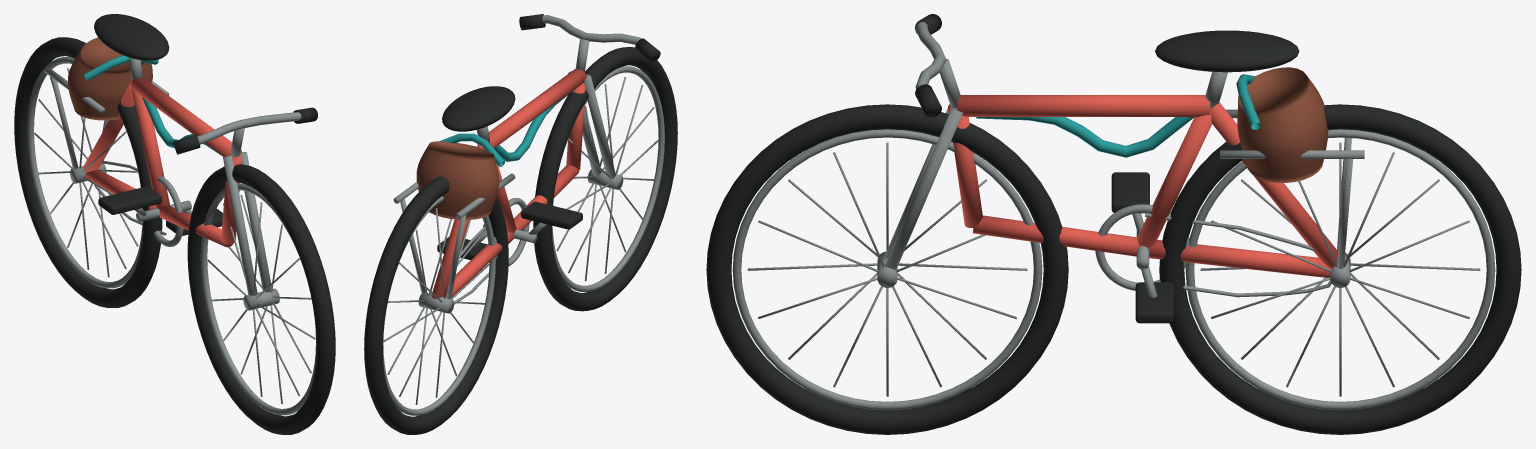
The model's file is kiran-bike.glb.
3 views of the same model, side by side, from view 1: azimuth 30°, elevation 25°; view 2: azimuth 150°, elevation 25°; view 3: azimuth 270°, elevation 25° (orthographic). The views are drawn at different scales.
Parts seen in each view (by area): view 1: kiran_bike_front_tire, kiran_bike_rear_tire, kiran_bike_delivery_bag, kiran_bike_saddle, kiran_bike_front_rim, kiran_bike_rear_rim, kiran_bike_frame_04, kiran_bike_frame_02, kiran_bike_fork_l, kiran_bike_pedal_l, kiran_bike_frame_01, kiran_bike_fork_r (+12 smaller); view 2: kiran_bike_front_tire, kiran_bike_rear_tire, kiran_bike_delivery_bag, kiran_bike_front_rim, kiran_bike_saddle, kiran_bike_rear_rim, kiran_bike_frame_04, kiran_bike_pedal_l, kiran_bike_fork_l, kiran_bike_frame_00, kiran_bike_frame_01, kiran_bike_handlebar (+16 smaller); view 3: kiran_bike_front_tire, kiran_bike_rear_tire, kiran_bike_delivery_bag, kiran_bike_front_rim, kiran_bike_rear_rim, kiran_bike_frame_04, kiran_bike_saddle, kiran_bike_frame_00, kiran_bike_frame_02, kiran_bike_frame_01, kiran_bike_frame_03, kiran_bike_fork_r (+9 smaller).
Boxes of the visible parts, x1,y1,x2,y2 form: kiran_bike_front_tire: [187, 164, 335, 434]; kiran_bike_rear_tire: [14, 37, 162, 307]; kiran_bike_delivery_bag: [68, 37, 152, 120]; kiran_bike_saddle: [94, 14, 169, 60]; kiran_bike_front_rim: [200, 184, 316, 415]; kiran_bike_rear_rim: [27, 57, 143, 288]; kiran_bike_frame_04: [130, 77, 242, 156]; kiran_bike_frame_02: [132, 89, 170, 209]; kiran_bike_fork_l: [223, 155, 257, 295]; kiran_bike_pedal_l: [98, 186, 161, 214]; kiran_bike_frame_01: [83, 80, 134, 172]; kiran_bike_fork_r: [240, 152, 271, 291]; kiran_bike_front_tire: [533, 47, 677, 311]; kiran_bike_rear_tire: [364, 176, 508, 434]; kiran_bike_delivery_bag: [416, 141, 499, 219]; kiran_bike_front_rim: [552, 66, 664, 291]; kiran_bike_saddle: [442, 86, 515, 131]; kiran_bike_rear_rim: [383, 196, 495, 415]; kiran_bike_frame_04: [488, 69, 586, 148]; kiran_bike_pedal_l: [521, 201, 582, 229]; kiran_bike_fork_l: [584, 74, 615, 179]; kiran_bike_frame_00: [445, 231, 514, 297]; kiran_bike_frame_01: [431, 144, 483, 298]; kiran_bike_handlebar: [542, 15, 641, 44]; kiran_bike_front_tire: [706, 104, 1068, 434]; kiran_bike_rear_tire: [1159, 104, 1521, 434]; kiran_bike_delivery_bag: [1237, 67, 1328, 182]; kiran_bike_front_rim: [732, 129, 1042, 410]; kiran_bike_rear_rim: [1185, 129, 1495, 410]; kiran_bike_frame_04: [957, 95, 1210, 116]; kiran_bike_saddle: [1155, 30, 1299, 72]; kiran_bike_frame_00: [1148, 240, 1331, 277]; kiran_bike_frame_02: [1137, 111, 1212, 248]; kiran_bike_frame_01: [1210, 102, 1345, 268]; kiran_bike_frame_03: [972, 215, 1139, 256]; kiran_bike_fork_r: [884, 107, 962, 270].
Bounding box in the file's own units: 0.8892 × 1.81 × 3.38.
